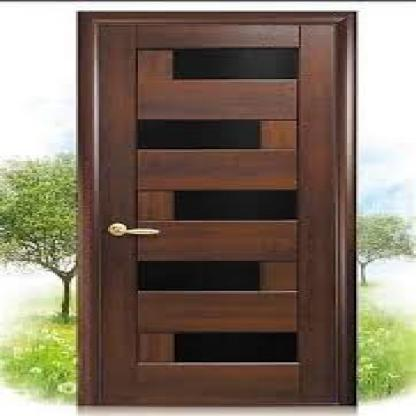door: (78, 11, 354, 401)
